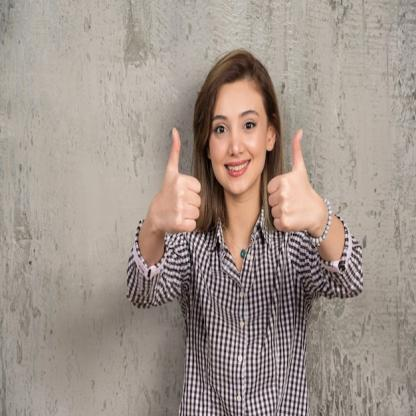thumb_up: (150, 125, 202, 236), (264, 127, 312, 235)
